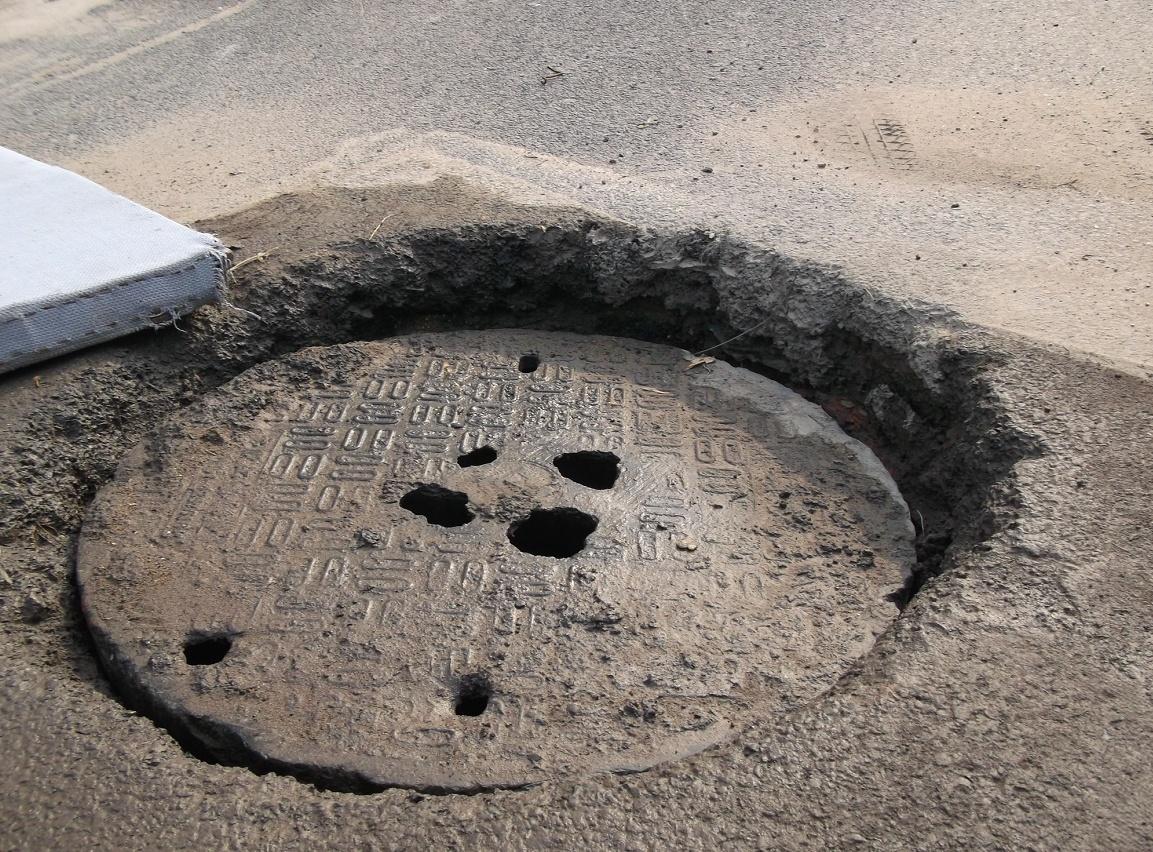broke: (73, 328, 920, 788)
